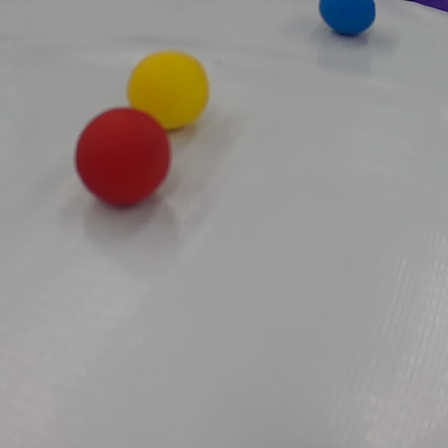blue: (314, 2, 382, 40)
red: (75, 105, 174, 212)
yellow: (125, 43, 208, 132)
